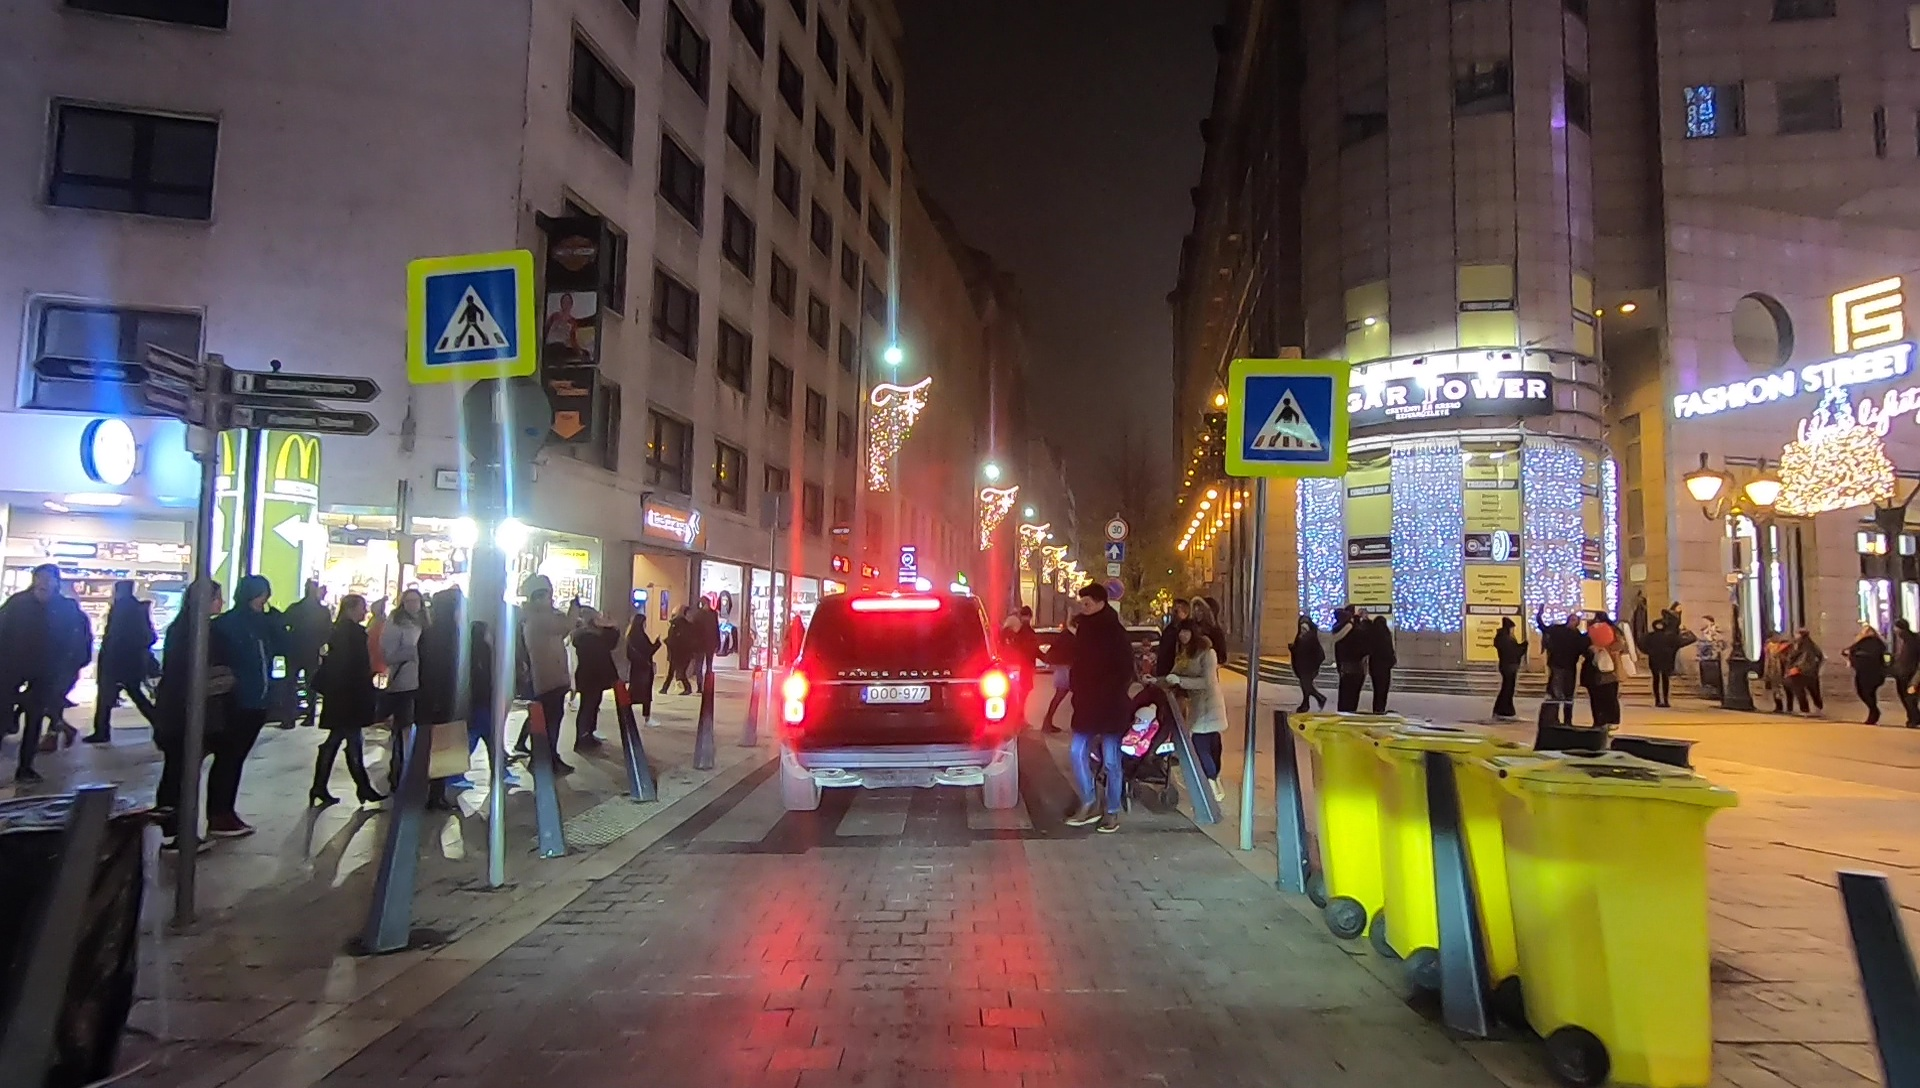person: (311, 585, 386, 810), (216, 570, 276, 838), (1, 562, 64, 786), (160, 572, 210, 853), (1070, 585, 1125, 838), (85, 572, 160, 745), (416, 597, 467, 830), (520, 588, 579, 775), (1170, 623, 1223, 800), (568, 594, 617, 754), (388, 587, 426, 772), (1158, 599, 1196, 782), (1533, 603, 1581, 731), (1190, 595, 1225, 762), (284, 575, 322, 731), (1844, 622, 1888, 726), (622, 613, 661, 731), (1333, 609, 1370, 720), (1004, 606, 1034, 735), (1492, 613, 1526, 716), (1890, 618, 1920, 729), (1292, 617, 1327, 714), (1367, 614, 1396, 728), (1789, 629, 1827, 718), (1586, 622, 1615, 732), (660, 603, 692, 698), (1647, 616, 1676, 709), (1760, 630, 1794, 712), (697, 596, 718, 686)
